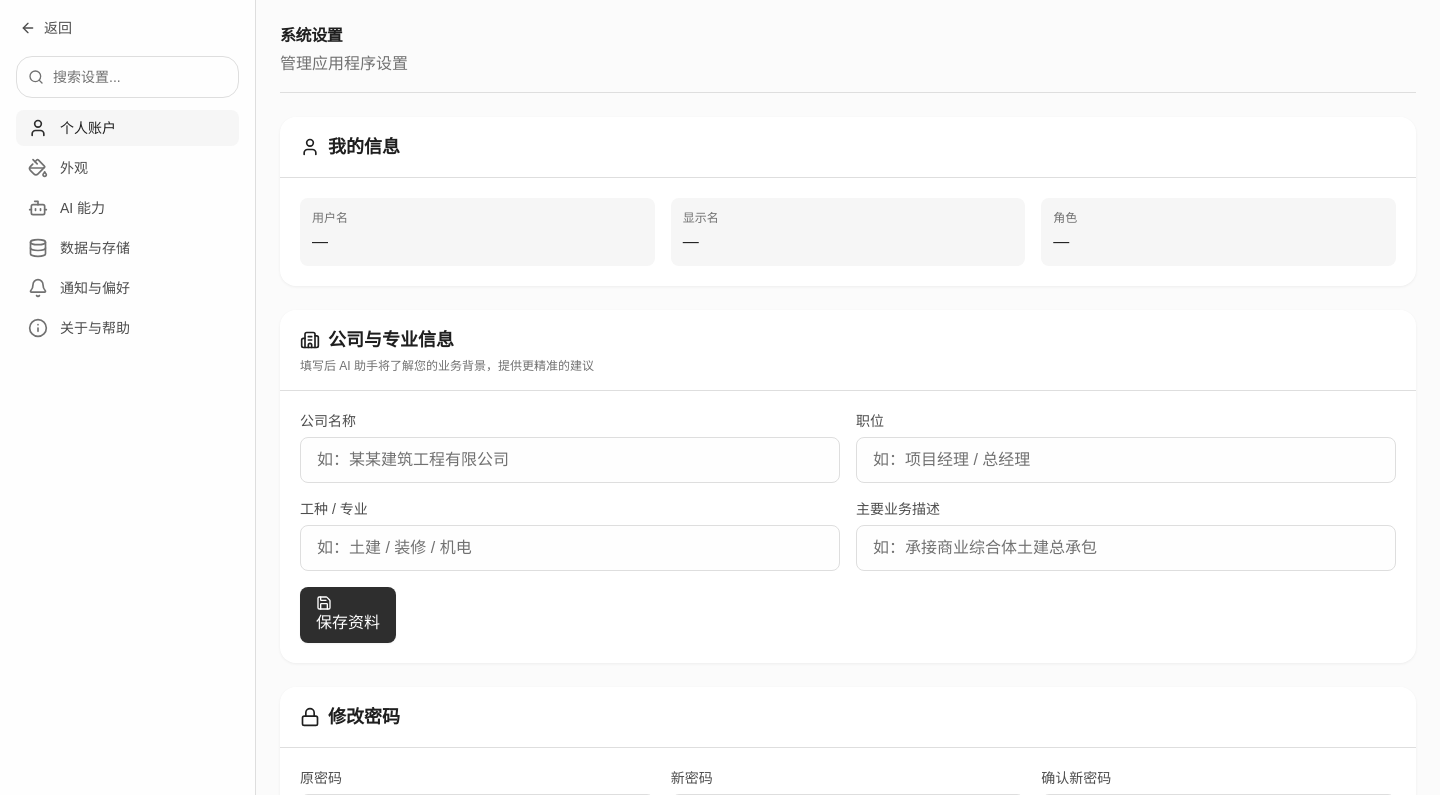
Scenario: Settings.tsx (v0.83.0 重构：分类导航 + 按需挂载 + 搜索) › 搜索无匹配时显示空提示
In the field with placeholder "搜索设置...": [128, 77] box [16,56,239,98], type "zzzznomatch"
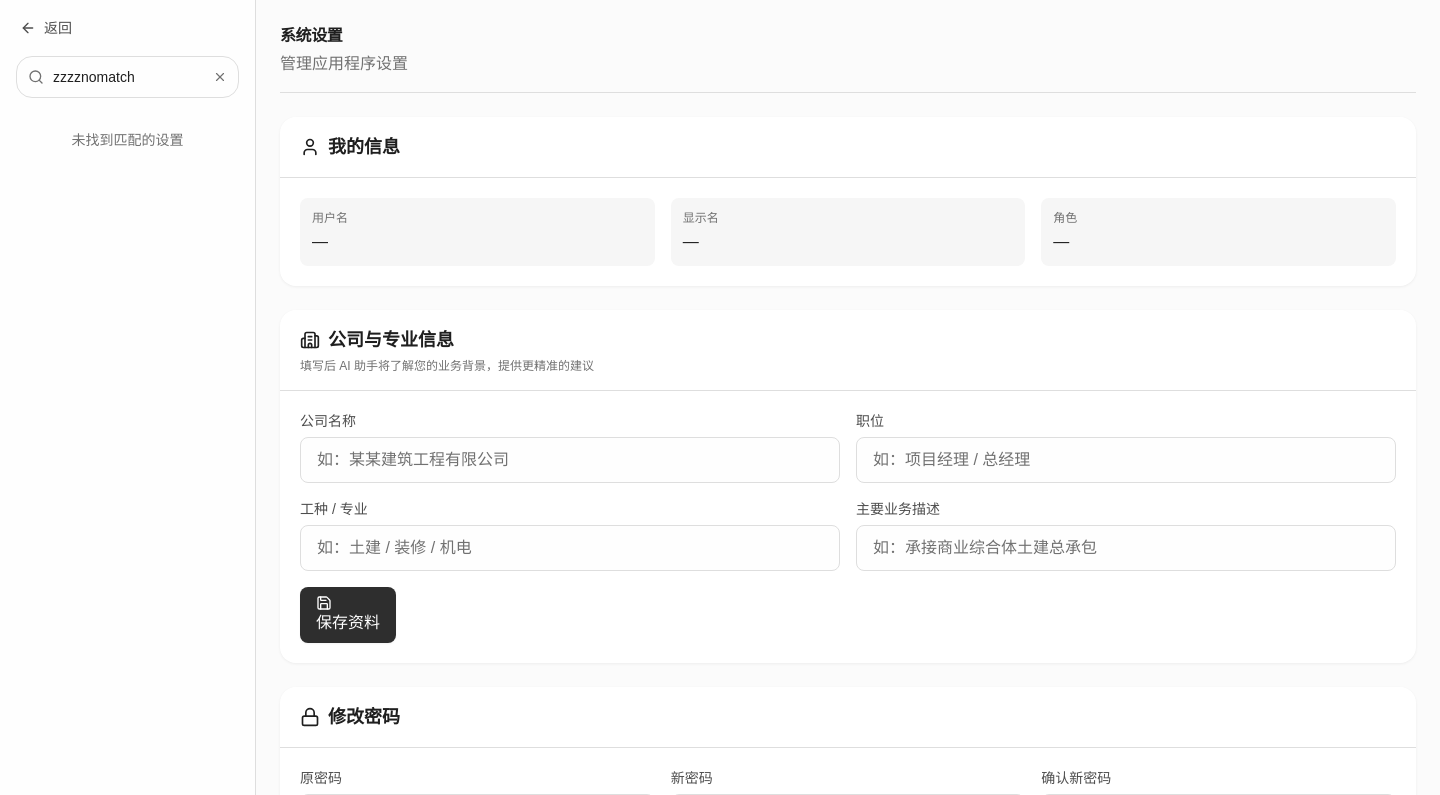
expect the text "未找到匹配的设置" is shown: met, box [72,132,184,148]
